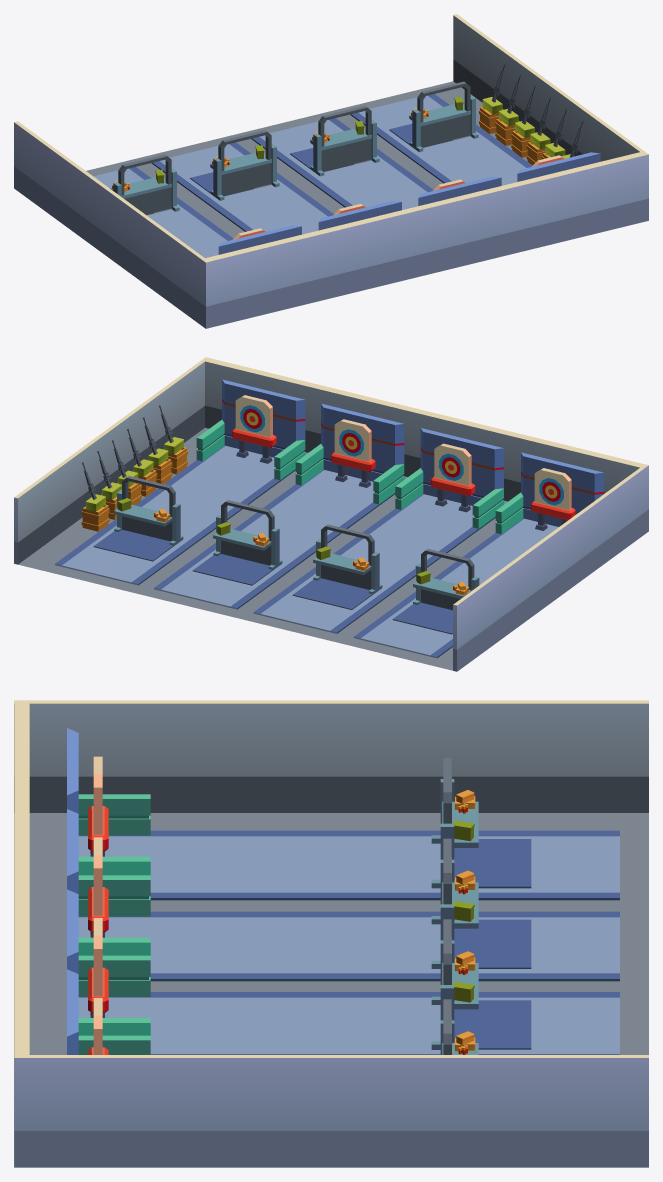
File: Training_Ground_2.fbx
3 renders of one model, top to bottom at view 1: azimuth 30°, elevation 25°; view 2: azimuth 150°, elevation 25°; view 3: azimuth 270°, elevation 25°, orthographic. The views are drawn at different scales.
Visible parts, largest first — view 1: Training_Ground_2_13, Training_Ground_2_1, Training_Ground_2_3, Training_Ground_2_2, Training_Ground_2_31, Training_Ground_2_32, Training_Ground_2_30, Training_Ground_2_22, Training_Ground_2_23, Training_Ground_2_27, Training_Ground_2_29, Training_Ground_2_26 (+8 smaller); view 2: Training_Ground_2_1, Training_Ground_2_3, Training_Ground_2_2, Training_Ground_2_13, Training_Ground_2_32, Training_Ground_2_30, Training_Ground_2_31, Training_Ground_2_29, Training_Ground_2_28, Training_Ground_2_21, Training_Ground_2_5, Training_Ground_2_23 (+12 smaller); view 3: Training_Ground_2_3, Training_Ground_2_1, Training_Ground_2_2, Training_Ground_2_29, Training_Ground_2_31, Training_Ground_2_32, Training_Ground_2_26, Training_Ground_2_23, Training_Ground_2_22, Training_Ground_2_13, Training_Ground_2_25, Training_Ground_2_28 (+6 smaller).
Part boxes in pixels (x1,y1,x2,y2): Training_Ground_2_13: (201, 151, 648, 328); Training_Ground_2_1: (14, 121, 209, 328); Training_Ground_2_3: (453, 14, 648, 221); Training_Ground_2_2: (86, 81, 648, 325); Training_Ground_2_31: (151, 142, 333, 234); Training_Ground_2_32: (251, 118, 433, 209); Training_Ground_2_30: (350, 94, 532, 185); Training_Ground_2_22: (290, 105, 379, 176); Training_Ground_2_23: (190, 130, 279, 200); Training_Ground_2_27: (389, 81, 478, 152); Training_Ground_2_29: (93, 167, 233, 258); Training_Ground_2_26: (110, 154, 179, 215); Training_Ground_2_1: (453, 464, 648, 671); Training_Ground_2_3: (14, 357, 208, 564); Training_Ground_2_2: (18, 427, 507, 670); Training_Ground_2_13: (202, 357, 648, 501); Training_Ground_2_32: (154, 469, 395, 609); Training_Ground_2_30: (55, 445, 295, 585); Training_Ground_2_31: (253, 494, 495, 633); Training_Ground_2_29: (353, 518, 558, 658); Training_Ground_2_28: (395, 428, 503, 528); Training_Ground_2_21: (295, 403, 404, 504); Training_Ground_2_5: (196, 379, 305, 480); Training_Ground_2_23: (292, 524, 382, 609); Training_Ground_2_3: (14, 1055, 648, 1167); Training_Ground_2_1: (14, 700, 648, 812); Training_Ground_2_2: (14, 813, 648, 1167); Training_Ground_2_29: (78, 830, 619, 900); Training_Ground_2_31: (78, 911, 619, 981); Training_Ground_2_32: (78, 992, 619, 1054); Training_Ground_2_26: (431, 758, 531, 888); Training_Ground_2_23: (431, 838, 531, 968); Training_Ground_2_22: (431, 919, 531, 1049); Training_Ground_2_13: (14, 700, 29, 1073); Training_Ground_2_25: (67, 728, 150, 875); Training_Ground_2_28: (67, 809, 150, 955).
Size of the model in its own units: 1400 by 203 by 1050.
